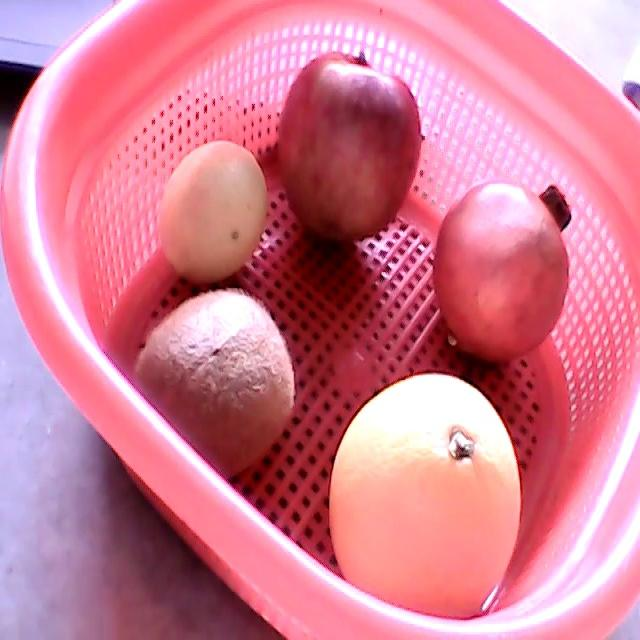apple: (277, 51, 422, 242)
kiwi: (134, 289, 294, 480)
lemon: (159, 142, 267, 285)
orange: (330, 372, 522, 619)
pomegranate: (433, 178, 573, 363)
